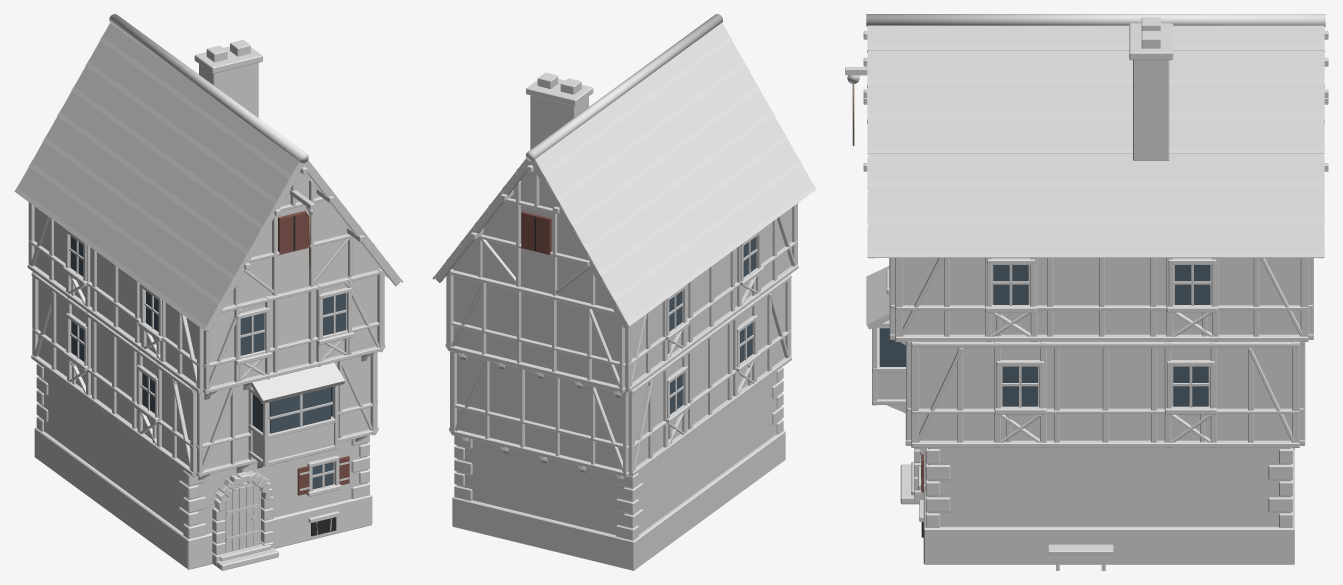
The model's file is ville_04_pignon_oriel.fbx.
3 renders of one model, left to right at view 1: azimuth 30°, elevation 25°; view 2: azimuth 150°, elevation 25°; view 3: azimuth 270°, elevation 25°, orthographic. The views are drawn at different scales.
Visible parts, largest first — view 1: ville_04_pignon_oriel_LOD0; view 2: ville_04_pignon_oriel_LOD0; view 3: ville_04_pignon_oriel_LOD0.
Boxes of the visible parts, <box> form: ville_04_pignon_oriel_LOD0: <box>14,14,403,570</box>; ville_04_pignon_oriel_LOD0: <box>432,14,816,570</box>; ville_04_pignon_oriel_LOD0: <box>845,14,1328,570</box>.
Size of what is drawn, in the model's own units: 5.94 by 11.74 by 10.12.
